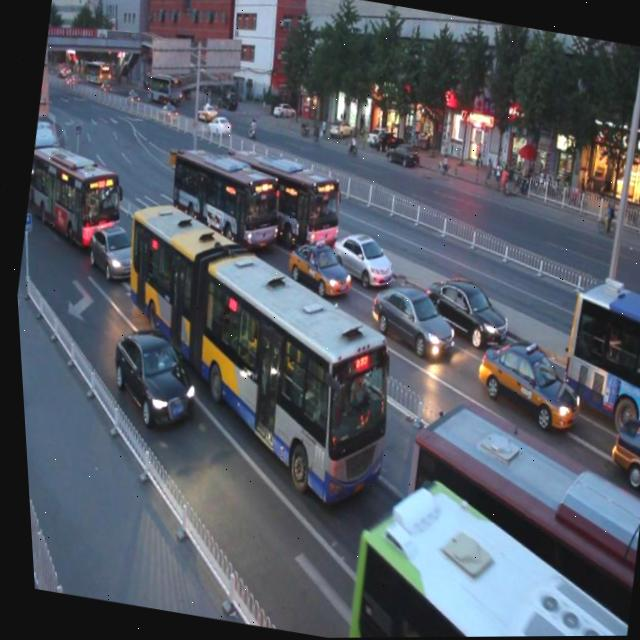car: (462, 328, 586, 438), (95, 318, 200, 434), (357, 272, 456, 362), (415, 266, 512, 349), (276, 228, 352, 301), (320, 219, 395, 291), (79, 217, 143, 284), (597, 406, 640, 488)
van: (83, 189, 419, 511), (370, 393, 640, 638), (334, 469, 639, 638), (155, 134, 288, 261), (214, 137, 348, 256), (547, 275, 640, 425), (18, 134, 128, 243)
